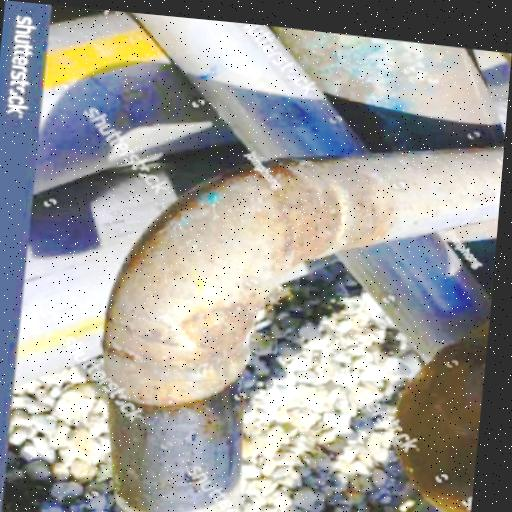corrosion: (258, 159, 348, 273), (174, 291, 264, 378)
